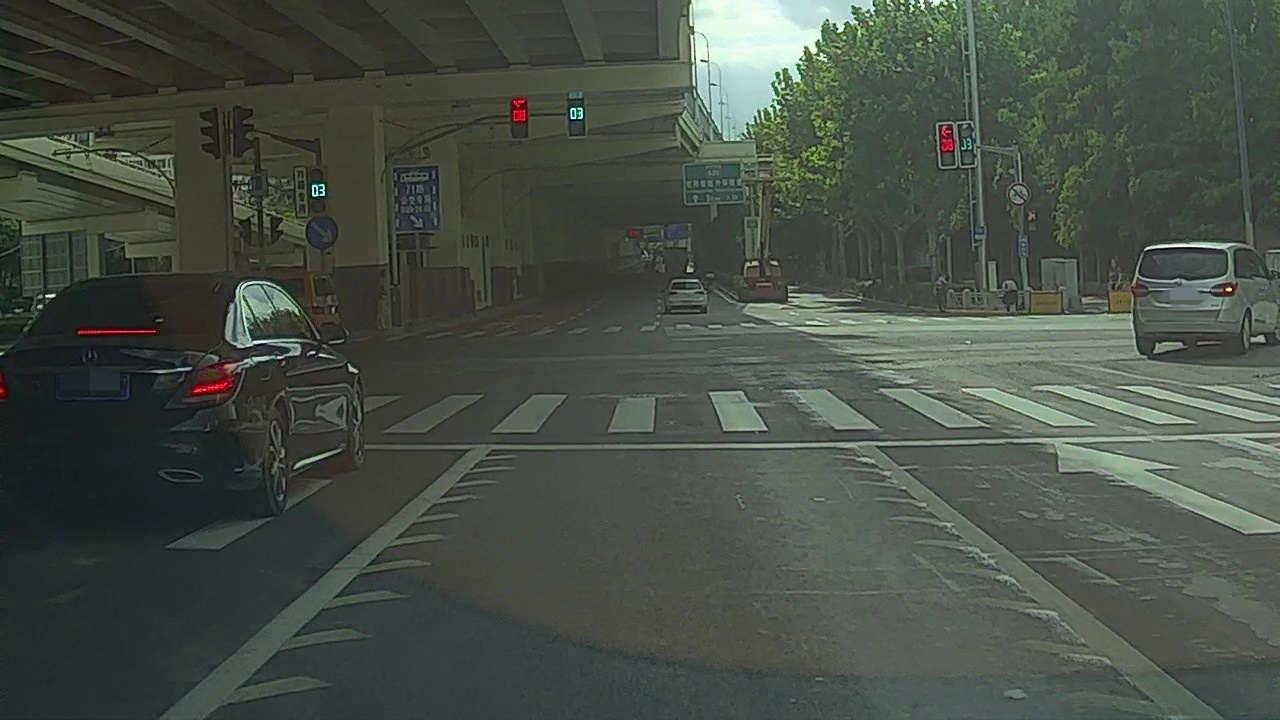traffic_light: (567, 97, 586, 137), (957, 123, 973, 168), (511, 97, 528, 139), (938, 127, 954, 165)
